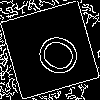O: (25, 25, 84, 82)
